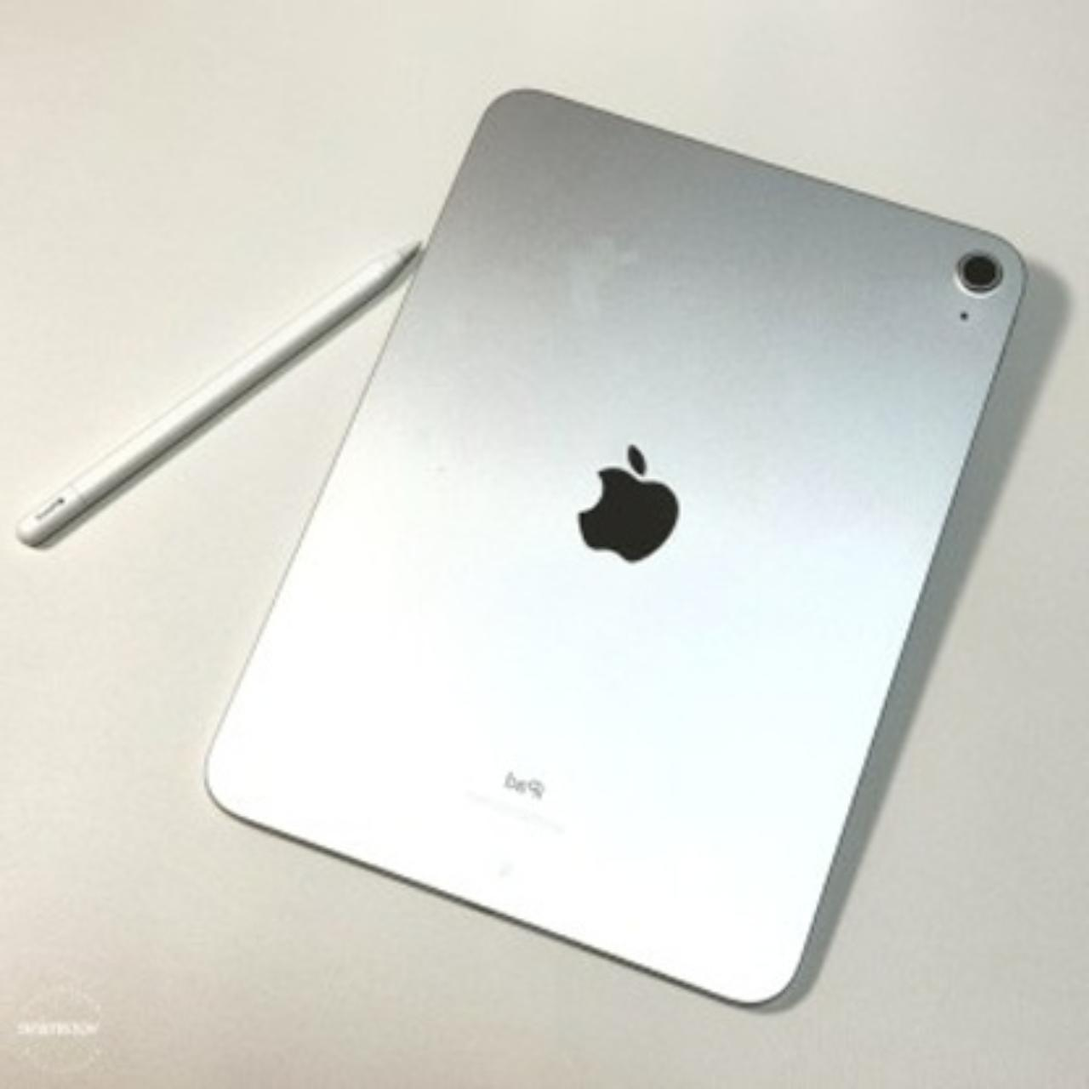Tablet_PC: (184, 79, 1045, 1015)
